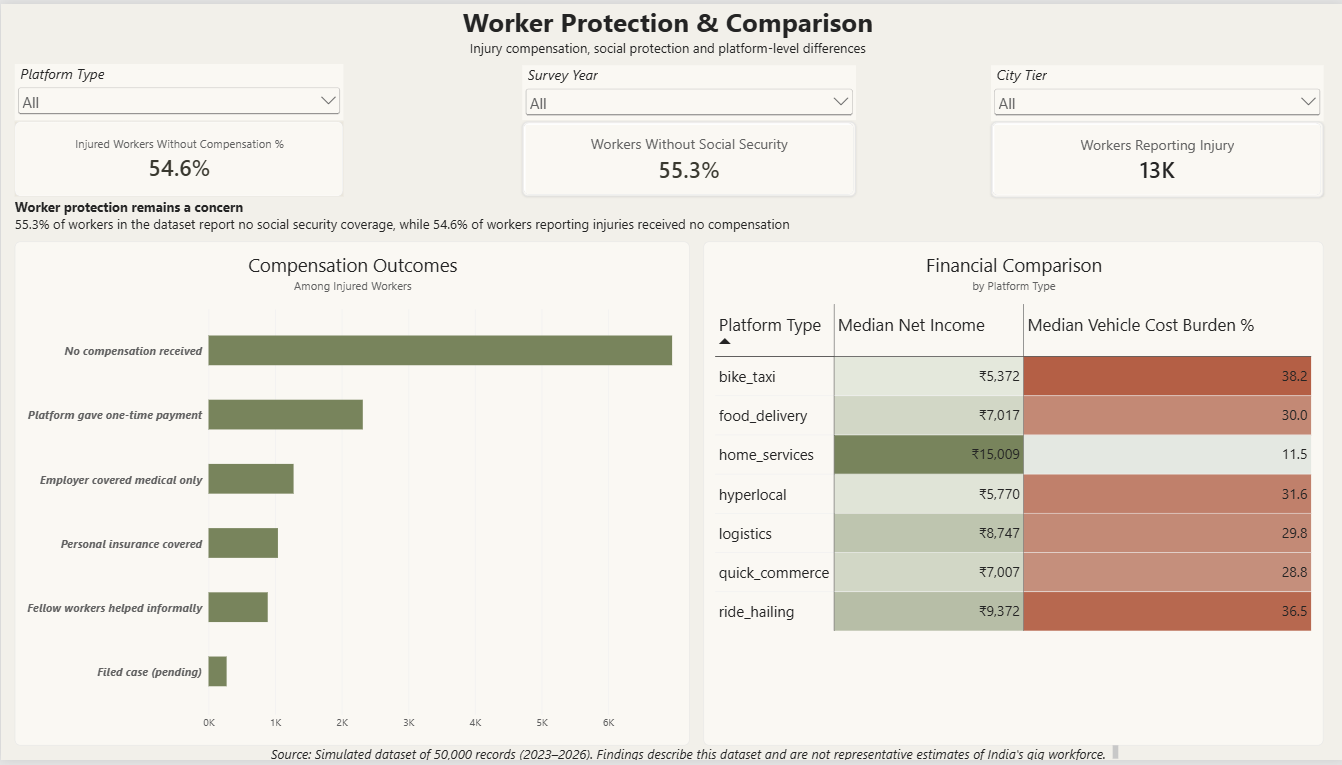

The page's visual inventory and layout, read from the dashboard file:
{"tool":"powerbi","page":{"name":"Worker Protection & Comparison","canvas":[1920,1080],"ordinal":1},"visuals":[{"type":"clusteredBarChart","title":"Compensation Outcomes","fields":{"Category":["cleaned_gig_workers.injury_compensation_received"],"Y":["CountNonNull(cleaned_gig_workers.worker_id)"]},"box":[19.6,339.3,964.3,719.6],"z":0},{"type":"textbox","box":[19.6,276.8,1119.6,62.5],"z":1000},{"type":"pivotTable","title":"Financial Comparison ","fields":{"Rows":["cleaned_gig_workers.platform_type"],"Values":["cleaned_gig_workers.Median Net Income","cleaned_gig_workers.Median Vehicle Cost Burden %"]},"box":[1003.6,339.3,885.7,719.6],"z":2000},{"type":"cardVisual","fields":{"Data":["cleaned_gig_workers.Injured Workers Without Compensation %"]},"box":[19.6,167.9,469.6,107.1],"z":3000},{"type":"textbox","box":[0,0,1905.4,105.4],"z":3001},{"type":"slicer","fields":{"Values":["cleaned_gig_workers.platform_type"]},"box":[19.6,85.7,469.6,80.4],"z":3002},{"type":"slicer","fields":{"Values":["cleaned_gig_workers.survey_year"]},"box":[744.6,87.5,476.8,78.6],"z":3003},{"type":"slicer","title":"City Tier","fields":{"Values":["cleaned_gig_workers.city_tier"]},"box":[1414.3,87.5,475,80.4],"z":3004},{"type":"cardVisual","fields":{"Data":["cleaned_gig_workers.Workers Reporting Injury"]},"box":[1414.3,167.9,475,108.9],"z":3005},{"type":"cardVisual","fields":{"Data":["cleaned_gig_workers.Workers Without Social Security"]},"box":[744.6,167.9,476.8,107.1],"z":3006},{"type":"textbox","box":[385.7,1058.6,1210.7,21.4],"z":3007}]}

Visuals, with their boxes in screenshot pixels (x1, y1, x2, y2), scaled from the page's 1920x1080 canvas onto the 1342x765 screenshot:
"Compensation Outcomes" clusteredBarChart: [left=14, top=240, right=688, bottom=750]
textbox: [left=14, top=196, right=796, bottom=240]
"Financial Comparison " pivotTable: [left=701, top=240, right=1321, bottom=750]
cardVisual - cleaned_gig_workers.Injured Workers Without Compensation %: [left=14, top=119, right=342, bottom=195]
textbox: [left=0, top=0, right=1332, bottom=75]
slicer - cleaned_gig_workers.platform_type: [left=14, top=61, right=342, bottom=118]
slicer - cleaned_gig_workers.survey_year: [left=520, top=62, right=854, bottom=118]
"City Tier" slicer: [left=989, top=62, right=1321, bottom=119]
cardVisual - cleaned_gig_workers.Workers Reporting Injury: [left=989, top=119, right=1321, bottom=196]
cardVisual - cleaned_gig_workers.Workers Without Social Security: [left=520, top=119, right=854, bottom=195]
textbox: [left=270, top=750, right=1116, bottom=764]
